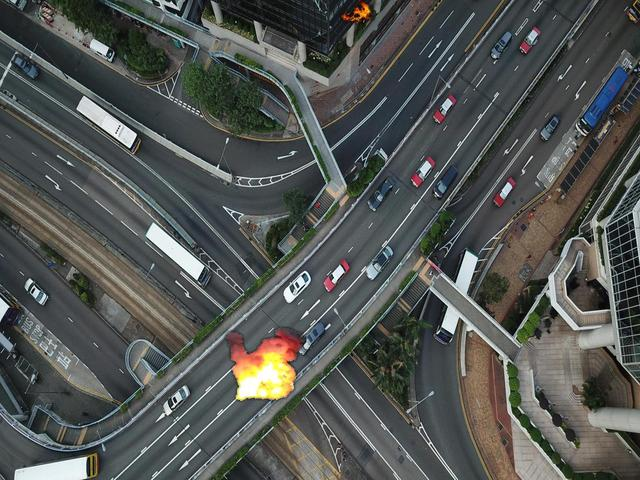fire: (225, 327, 304, 402), (341, 1, 372, 25)
